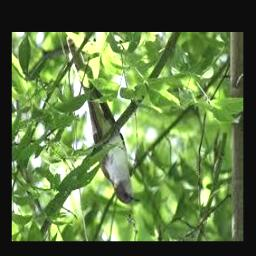Cuckoo: (66, 35, 139, 204)
